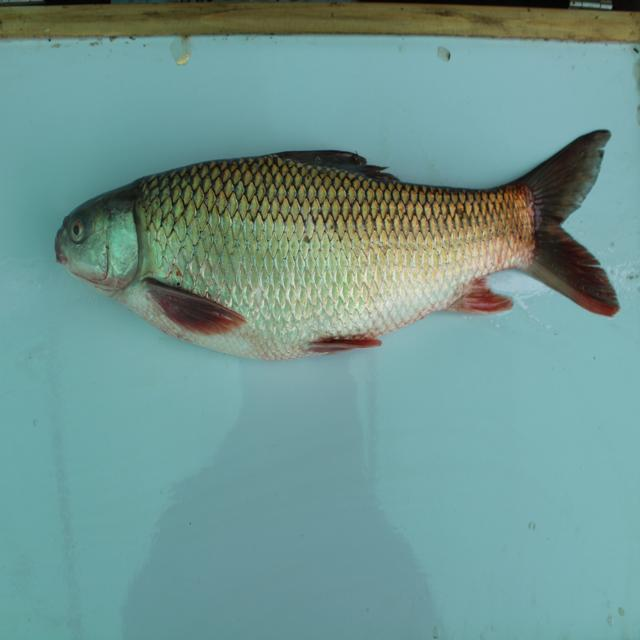Mori: (56, 130, 621, 361)
